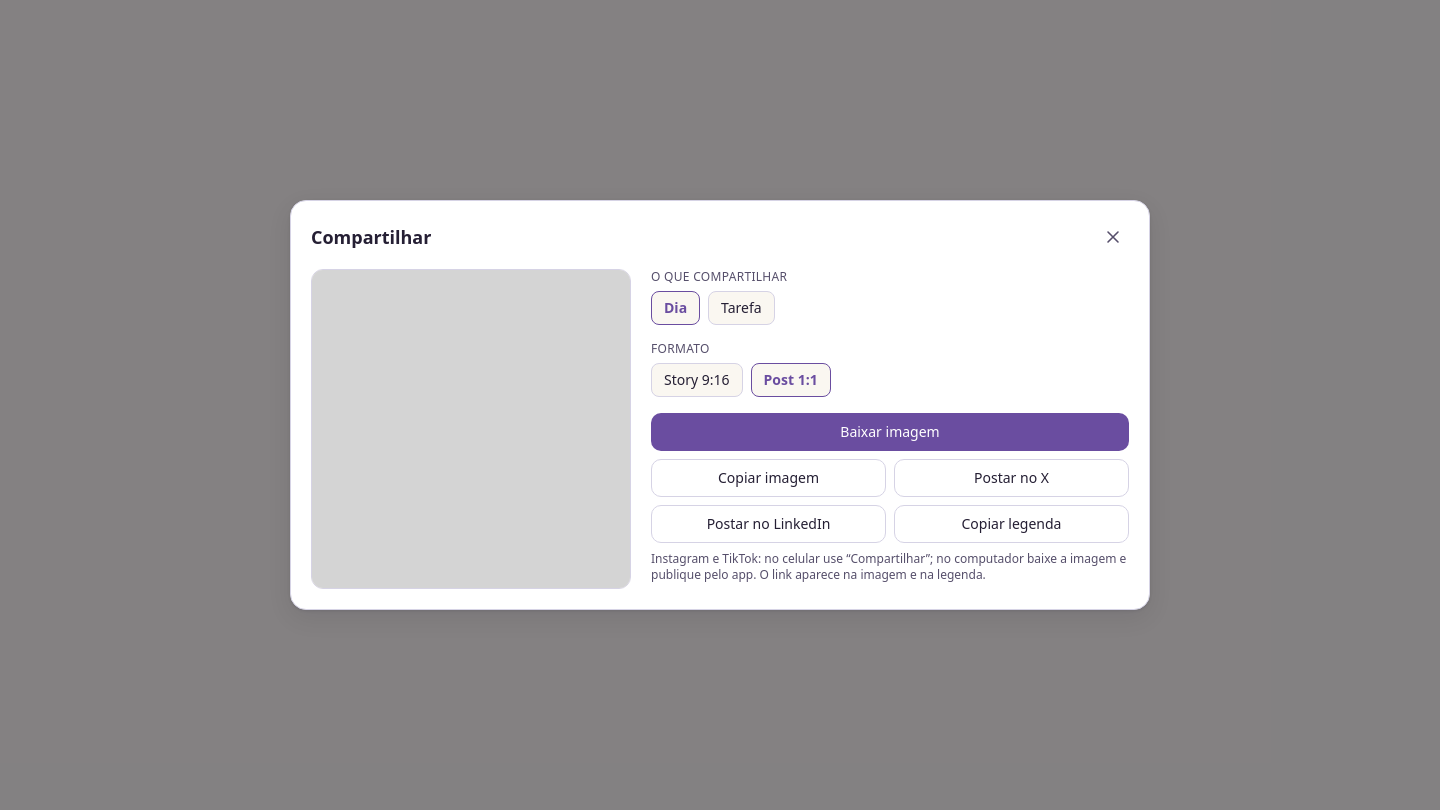
Test case: ShareDialog › switches to the task card and preselects the given task
Click the radio button labelled "Tarefa" at [741, 308], box x1=708 y1=291 x2=775 y2=325
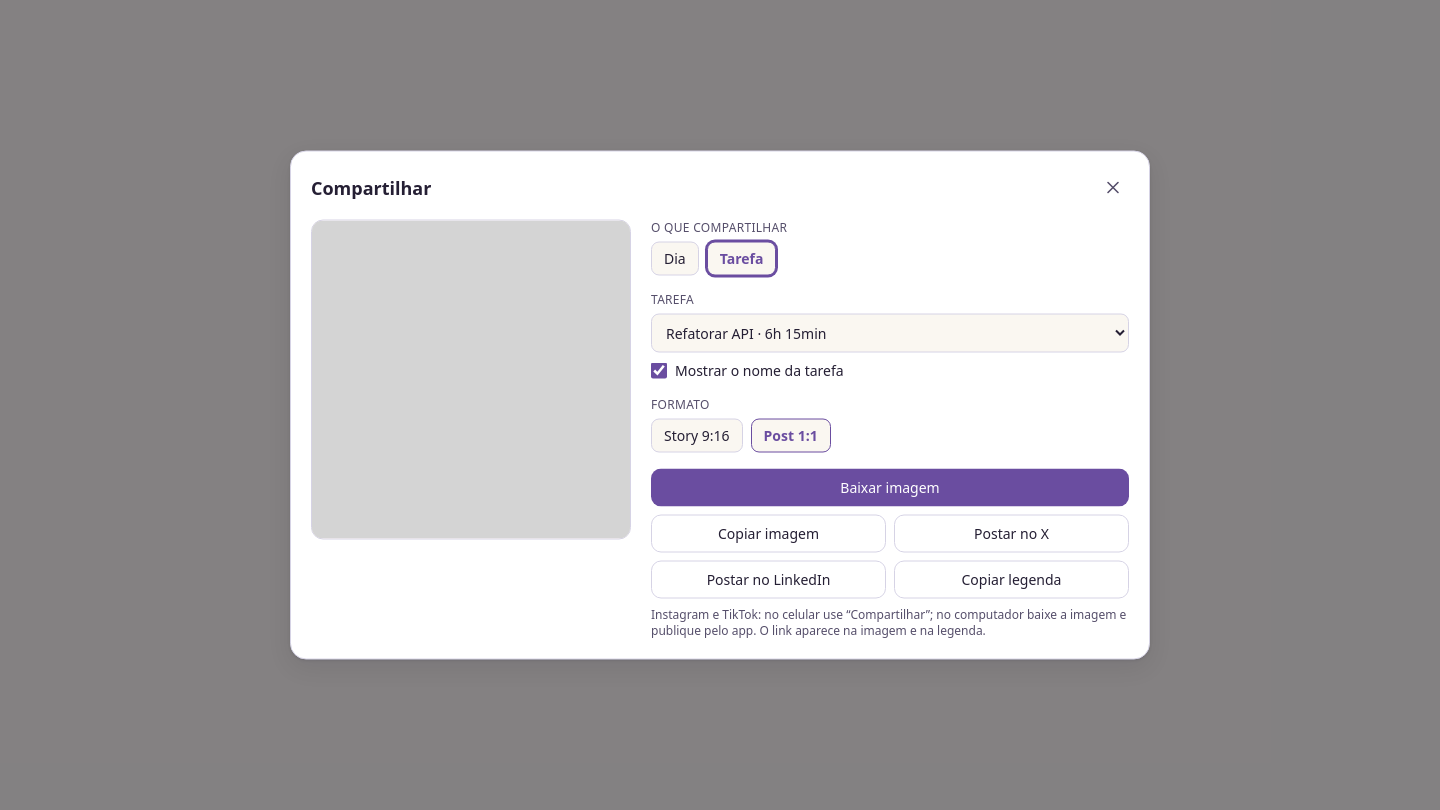
Expected: the dropdown shows "Refatorar API · 6h 15min", x1=651 y1=314 x2=1129 y2=352
